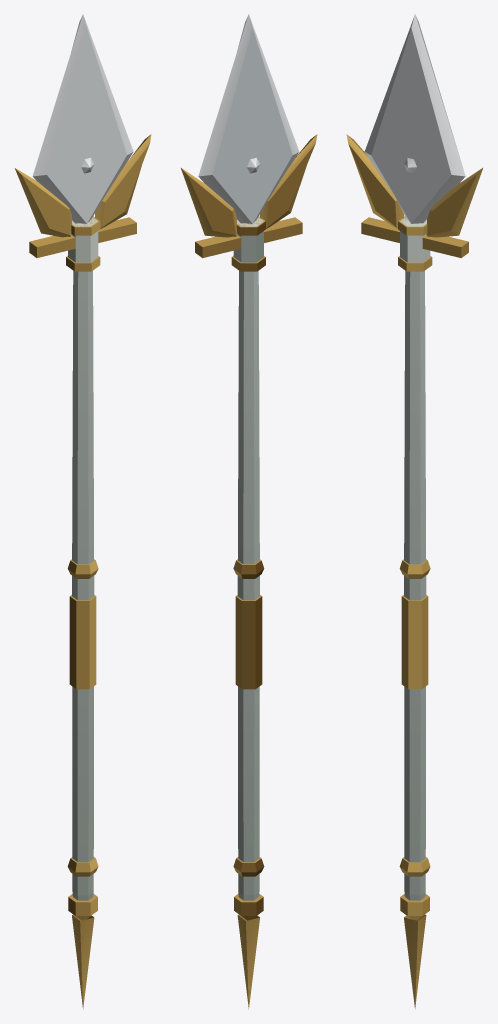
File: knight_spear_4.gltf
3 renders of one model, left to right at view 1: azimuth 30°, elevation 25°; view 2: azimuth 210°, elevation 25°; view 3: azimuth 330°, elevation 25°, orthographic.
Parts seen in each view (by area): view 1: knight_spear_4; view 2: knight_spear_4; view 3: knight_spear_4.
Part boxes in pixels (x1,y1,x2,y2): knight_spear_4: (15, 14, 151, 1009); knight_spear_4: (181, 14, 317, 1009); knight_spear_4: (346, 14, 482, 1009).
Size of the model in its own units: 0.5201 by 3.61 by 0.112.
Materials: 1 (1 with a texture image).
